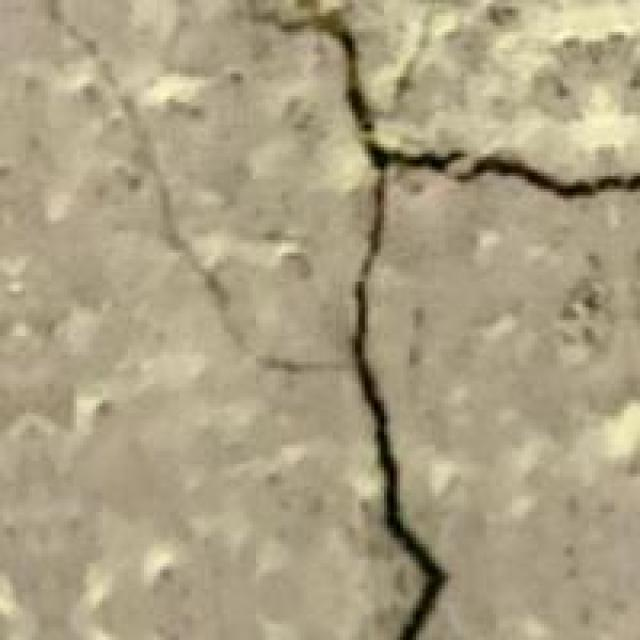Crack: (237, 3, 637, 637)
